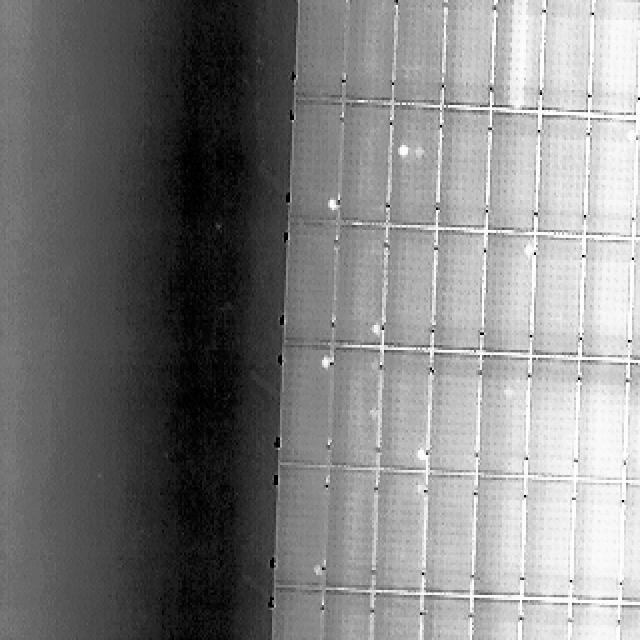Hotspots: (395, 132, 416, 162), (306, 557, 324, 584), (412, 440, 428, 464), (325, 195, 341, 219), (320, 557, 334, 583), (368, 322, 383, 346), (318, 350, 334, 372)
PV-modules: (274, 468, 327, 591), (342, 106, 394, 230), (334, 344, 386, 468), (330, 468, 382, 591), (430, 235, 482, 357), (383, 228, 435, 350), (376, 349, 427, 473), (532, 241, 584, 362), (473, 478, 525, 599), (527, 359, 578, 482), (478, 238, 530, 358), (391, 109, 442, 231), (476, 356, 527, 478), (487, 114, 538, 236), (427, 354, 478, 476), (294, 101, 344, 225), (580, 243, 631, 364), (333, 226, 384, 347), (423, 477, 474, 597), (568, 483, 619, 603), (437, 113, 487, 235), (284, 222, 333, 346), (279, 347, 330, 466), (576, 366, 626, 486), (538, 118, 588, 238), (583, 121, 633, 241), (378, 470, 427, 592), (525, 480, 574, 602), (590, 0, 640, 118), (540, 0, 590, 118), (490, 0, 542, 112), (348, 0, 400, 105), (440, 0, 490, 108), (394, 0, 444, 105), (292, 0, 342, 102), (419, 596, 521, 640), (270, 591, 320, 640), (620, 485, 640, 605), (321, 594, 372, 640), (372, 596, 424, 640), (468, 597, 520, 640), (419, 598, 470, 640), (520, 601, 572, 640), (565, 604, 617, 640), (628, 240, 640, 360), (628, 368, 640, 488), (632, 122, 640, 242), (616, 605, 640, 640)
